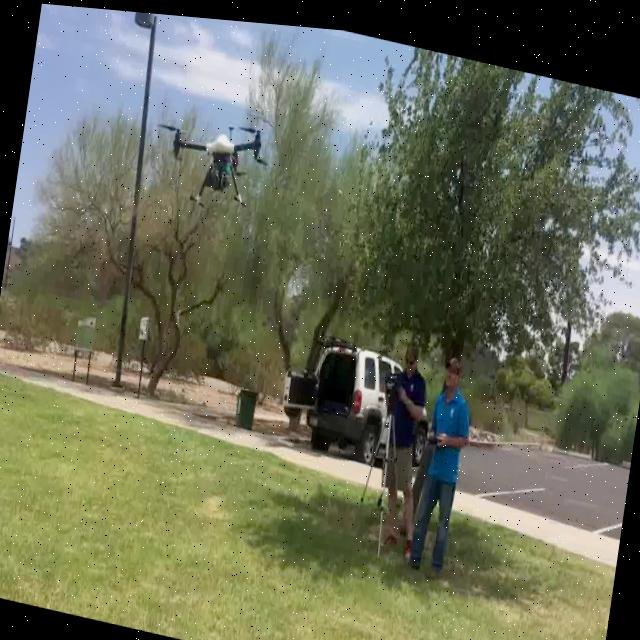drone: (152, 100, 274, 218)
